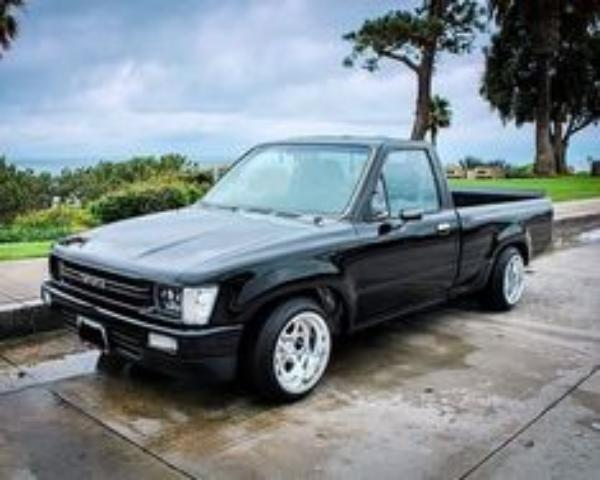pickup-truck: (40, 135, 555, 401)
